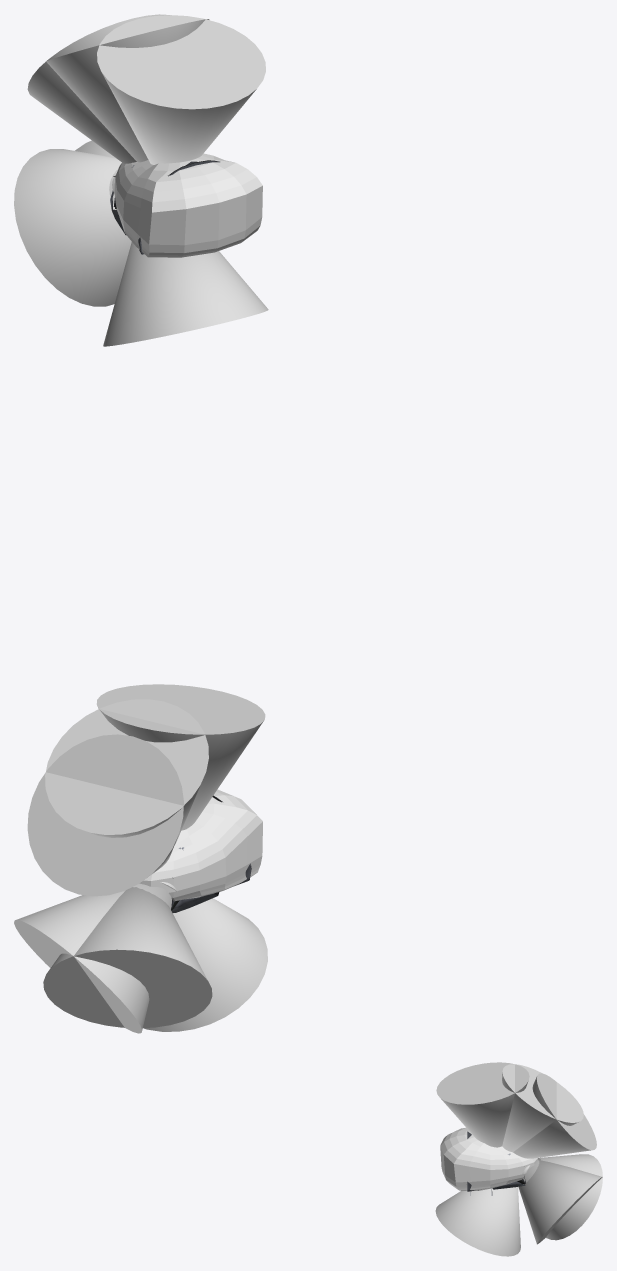
The picture shows the model from 3 angles, top to bottom: view 1: azimuth 30°, elevation 25°; view 2: azimuth 150°, elevation 25°; view 3: azimuth 270°, elevation 25°; orthographic projection. The views are drawn at different scales.
Visible parts, largest first — view 1: static-material-5, static-material-3; view 2: static-material-5, static-material-3; view 3: static-material-5, static-material-3.
Boxes of the visible parts, x1=… form: static-material-5: x1=14, y1=14, x2=268, y2=346; static-material-3: x1=114, y1=153, x2=262, y2=257; static-material-5: x1=14, y1=684, x2=267, y2=1033; static-material-3: x1=139, y1=789, x2=262, y2=901; static-material-5: x1=435, y1=1062, x2=602, y2=1256; static-material-3: x1=440, y1=1127, x2=537, y2=1190.
Size of what is drawn, in the model's own units: 4.52 by 7.26 by 22.05.
161 materials, 154 textured.
